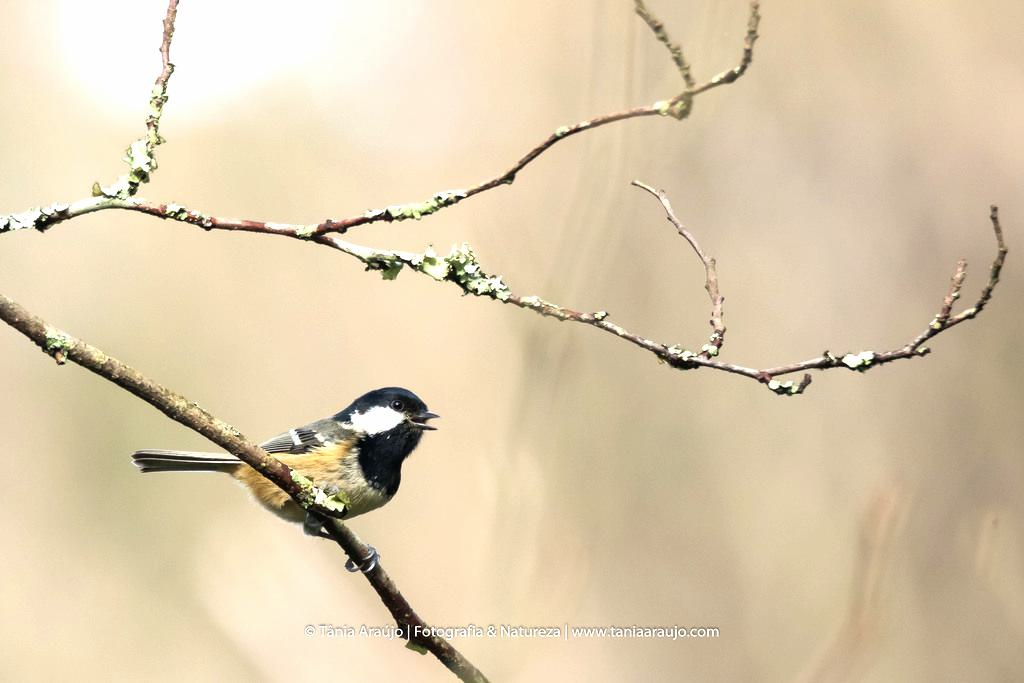PeriparusAter: (129, 382, 443, 575)
